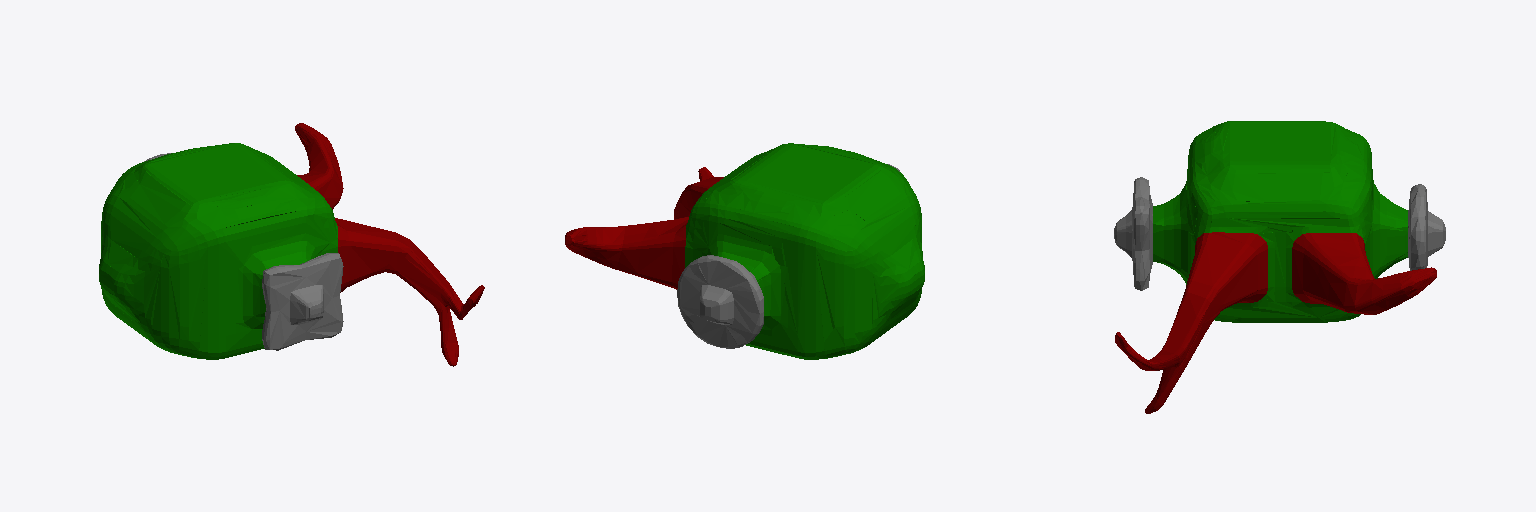
The model's file is hoofdLowRes.obj.
3 views of the same model, side by side, from view 1: azimuth 30°, elevation 25°; view 2: azimuth 150°, elevation 25°; view 3: azimuth 270°, elevation 25° (orthographic).
Parts seen in each view (by area): view 1: Cube; view 2: Cube; view 3: Cube.
Part boxes in pixels (left/top/right/bottom): Cube: left=99, top=123, right=484, bottom=366; Cube: left=565, top=143, right=924, bottom=359; Cube: left=1114, top=121, right=1445, bottom=413.
Size of the model in its own units: 18.62 by 11.24 by 17.97.